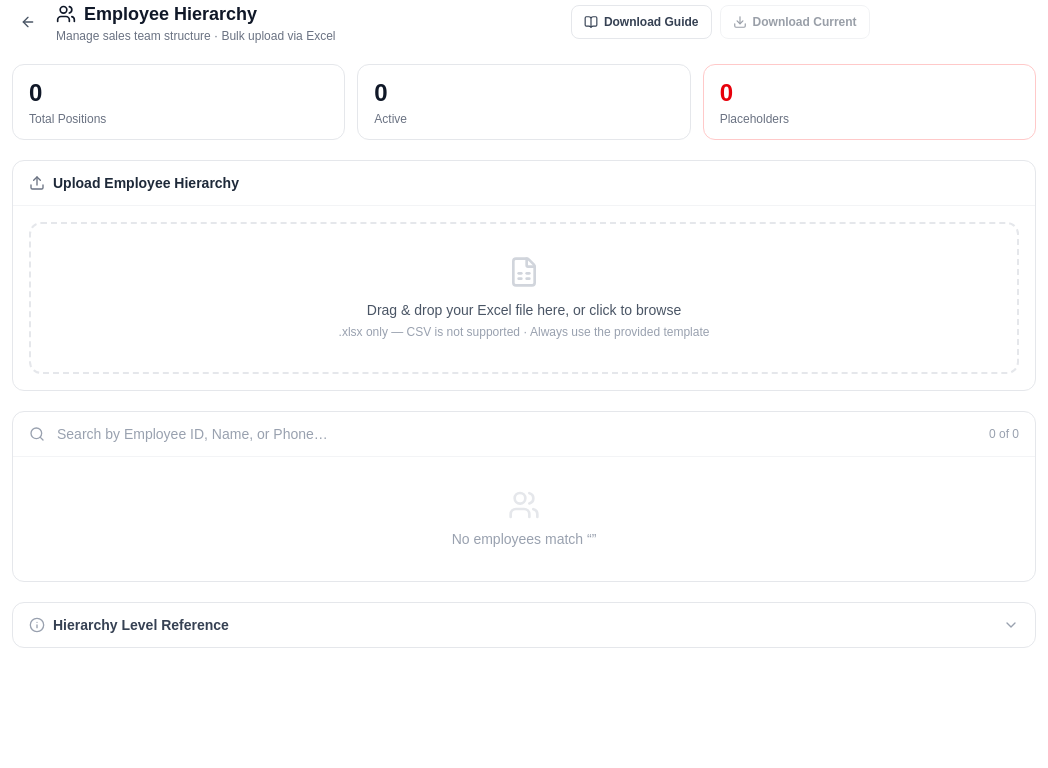
Test: H — Employee Hierarchy Management Page › H39: search by name filters the list
Type "Anand Rao" into the field with test id "employee-search". click: (517, 434)
box: [57,424,977,444]
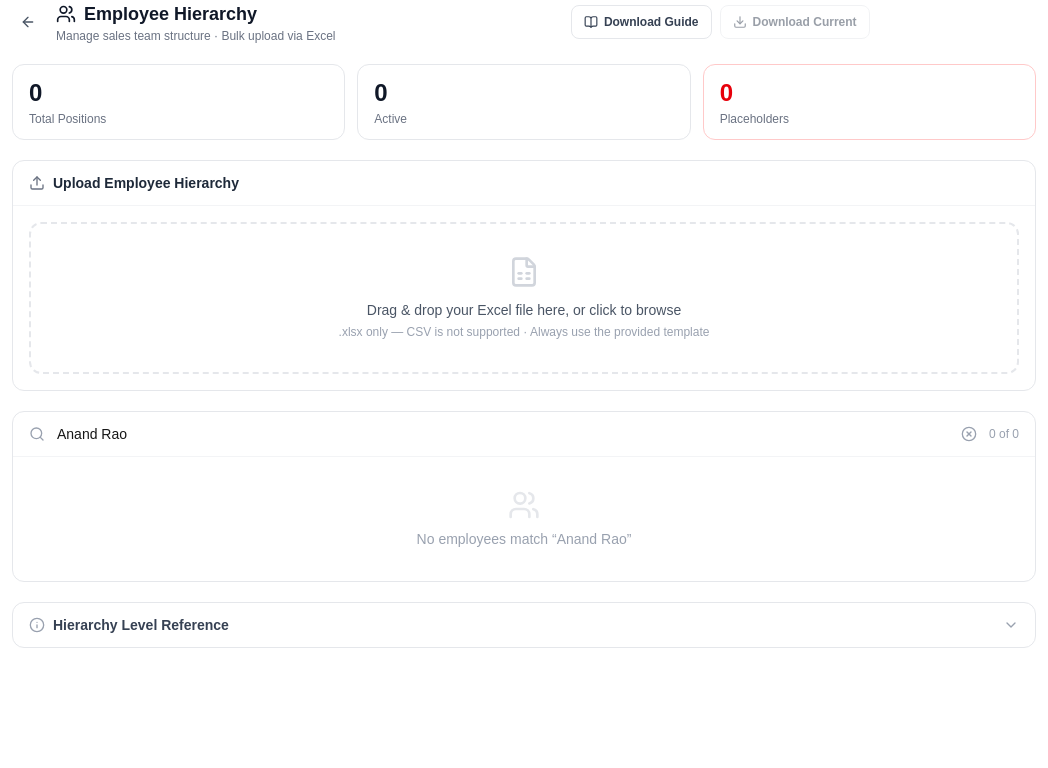
Expected: the text "No employees match “Anand Rao”" is shown, [417,531,631,547]
